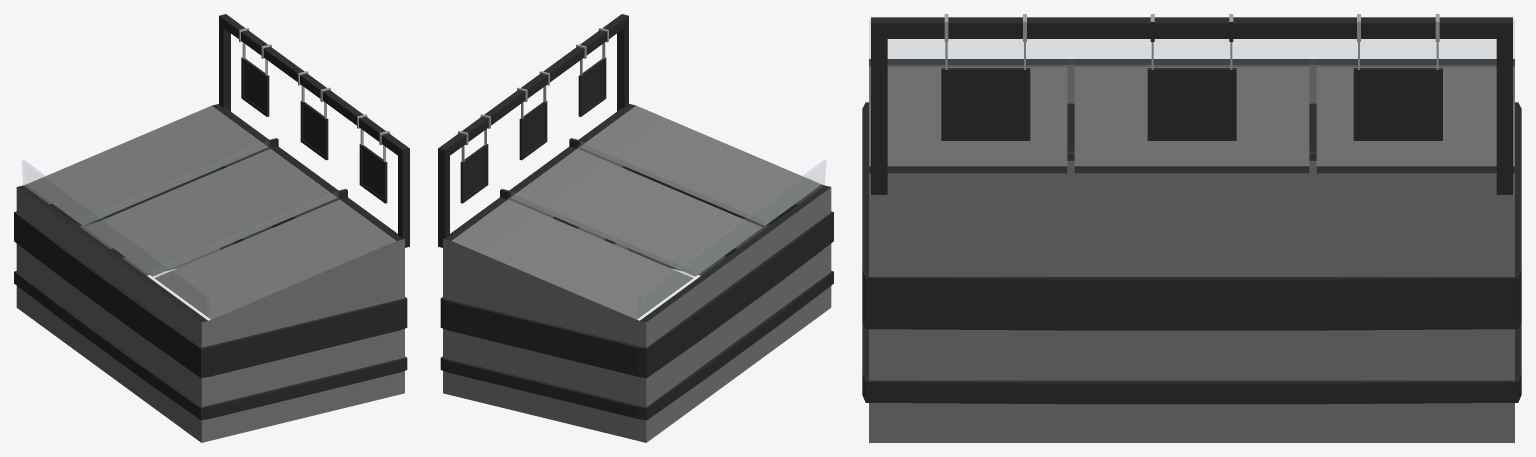
The model's file is FruitsShelve.fbx.
3 renders of one model, left to right at view 1: azimuth 30°, elevation 25°; view 2: azimuth 150°, elevation 25°; view 3: azimuth 270°, elevation 25°, orthographic. The views are drawn at different scales.
Visible parts, largest first — view 1: pCube53; view 2: pCube53; view 3: pCube53.
Part boxes in pixels (left/top/right/bottom): pCube53: left=14, top=14, right=409, bottom=442; pCube53: left=438, top=14, right=833, bottom=442; pCube53: left=862, top=14, right=1521, bottom=442.
Size of the model in its own units: 10 by 10.95 by 15.32.
Materials: 2 (1 with a texture image).
